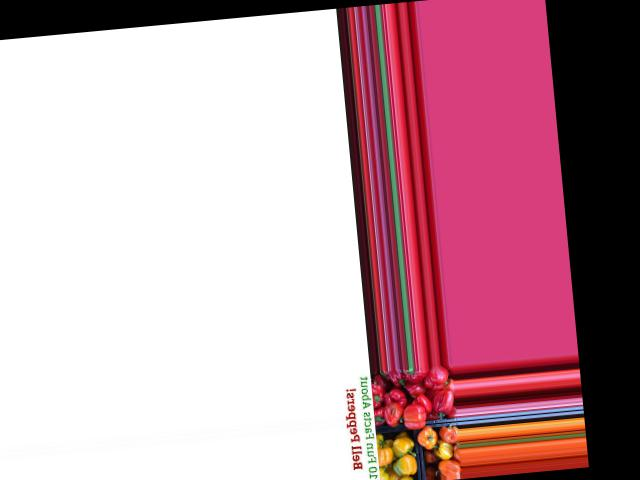bell_pepper: (367, 381, 390, 414)
